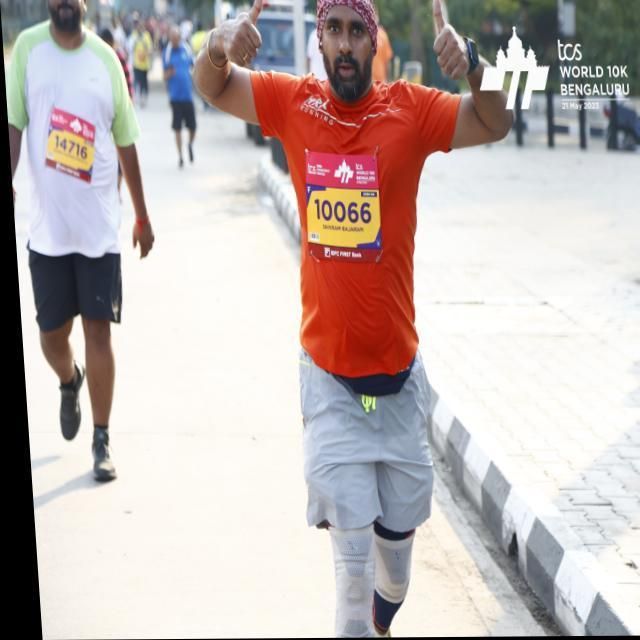dorsal: (300, 146, 382, 262), (42, 108, 101, 186)
